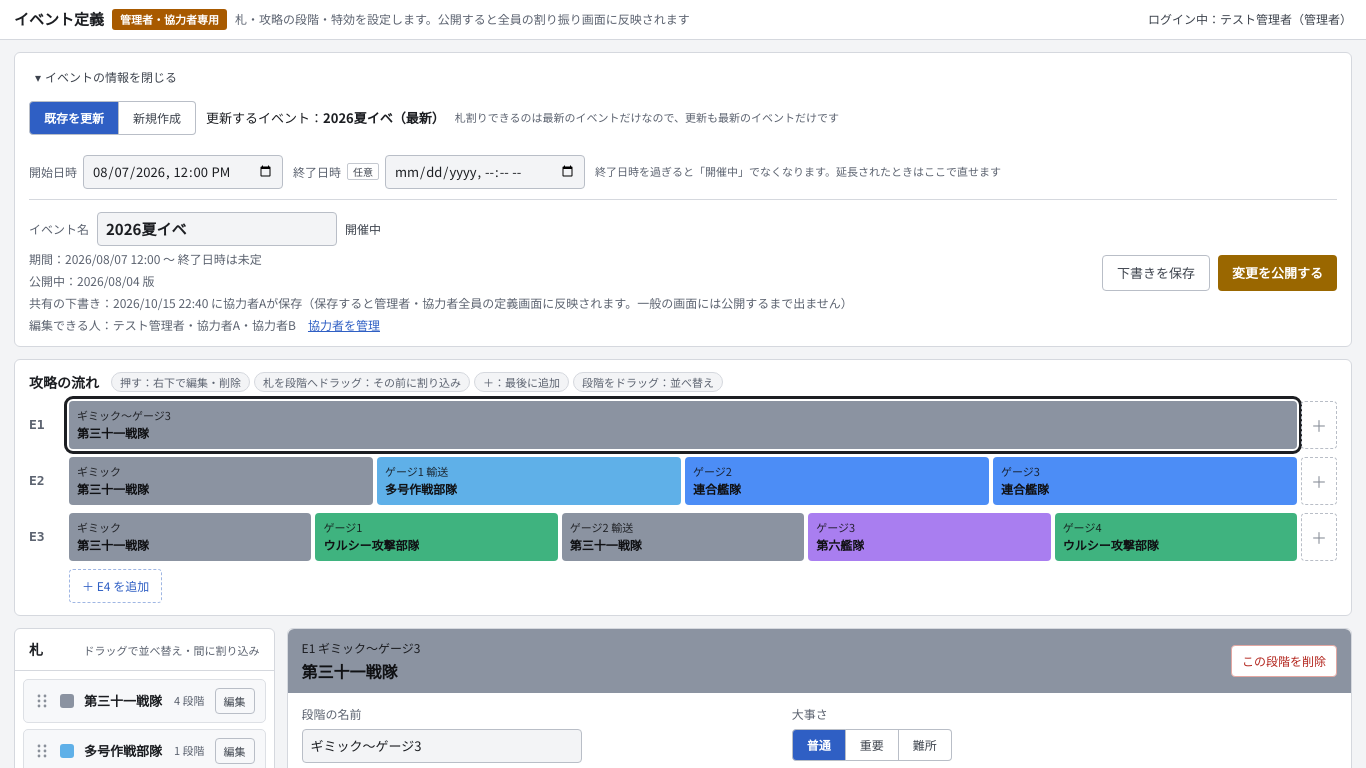
イベント定義の画面（PlanEditor）：攻略の流れと札の一覧 › 攻略の流れ › メニューの「やめる」で、段階を追加せずにメニューを閉じる
Expected: the element "攻略の流れ" is shown, [14, 358, 1352, 616]
Click the button named "段階を追加".
click(1319, 480)  # box [1301, 456, 1337, 504]
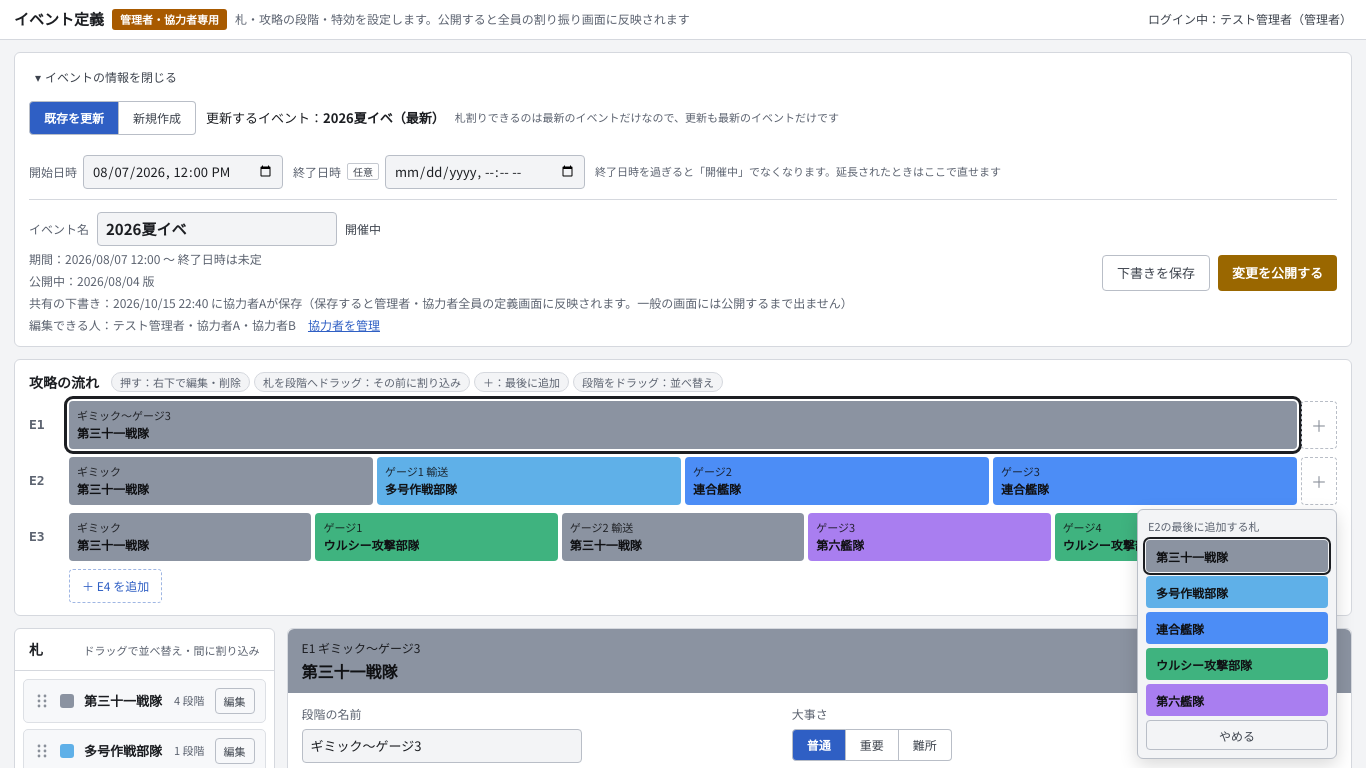
Click the button "やめる".
click(1237, 735)  # box [1146, 720, 1328, 750]
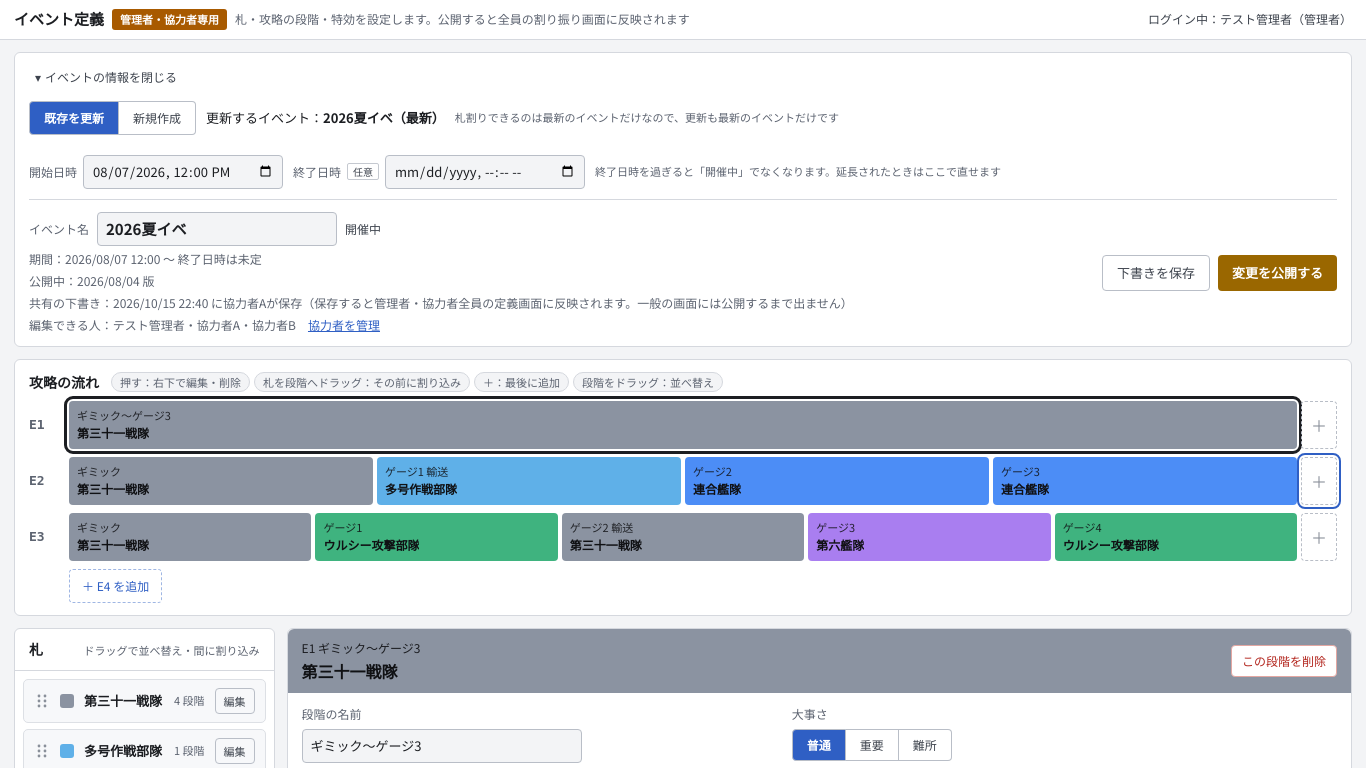
Expected: the menu is gone
